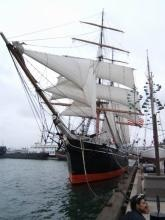fanchuan: (5, 9, 145, 182)
